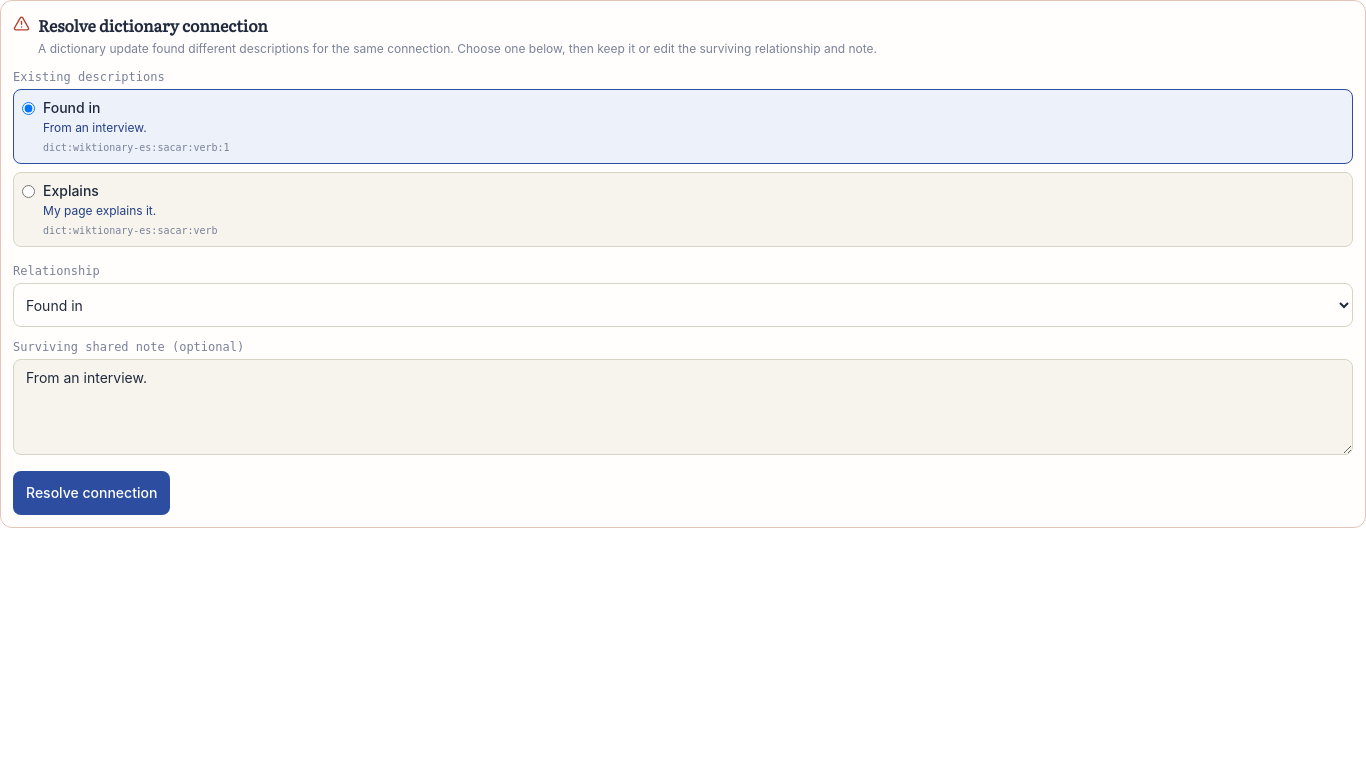
Test: AliasConflictResolver › keeps the conflict visible and explains a failed save
The width and height of the screenshot is (1366, 768).
Click the button "Resolve connection" at (92, 493), box 13,471 -> 170,515
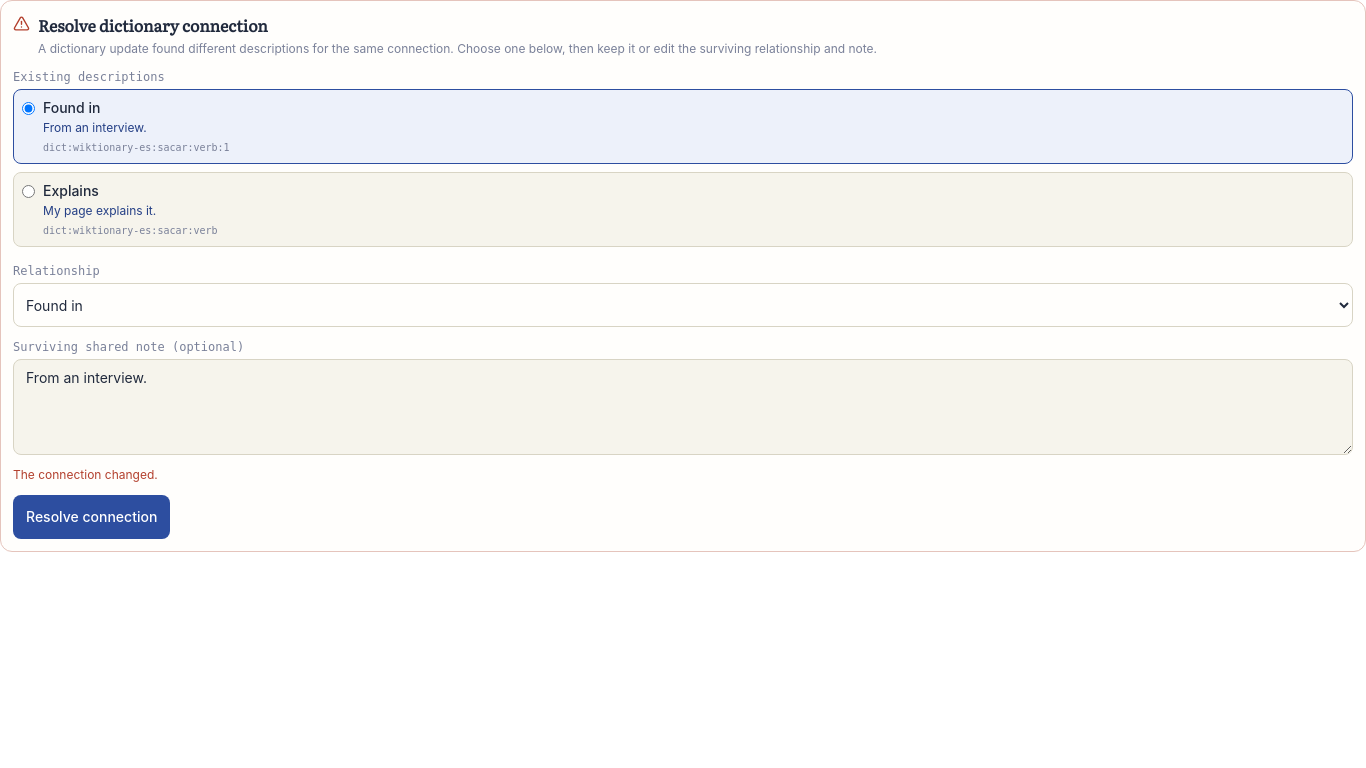
Expected: the heading "Resolve dictionary connection" is shown, 38,13 -> 268,37
Now the message reads "The connection changed.", box 13,467 -> 158,482
